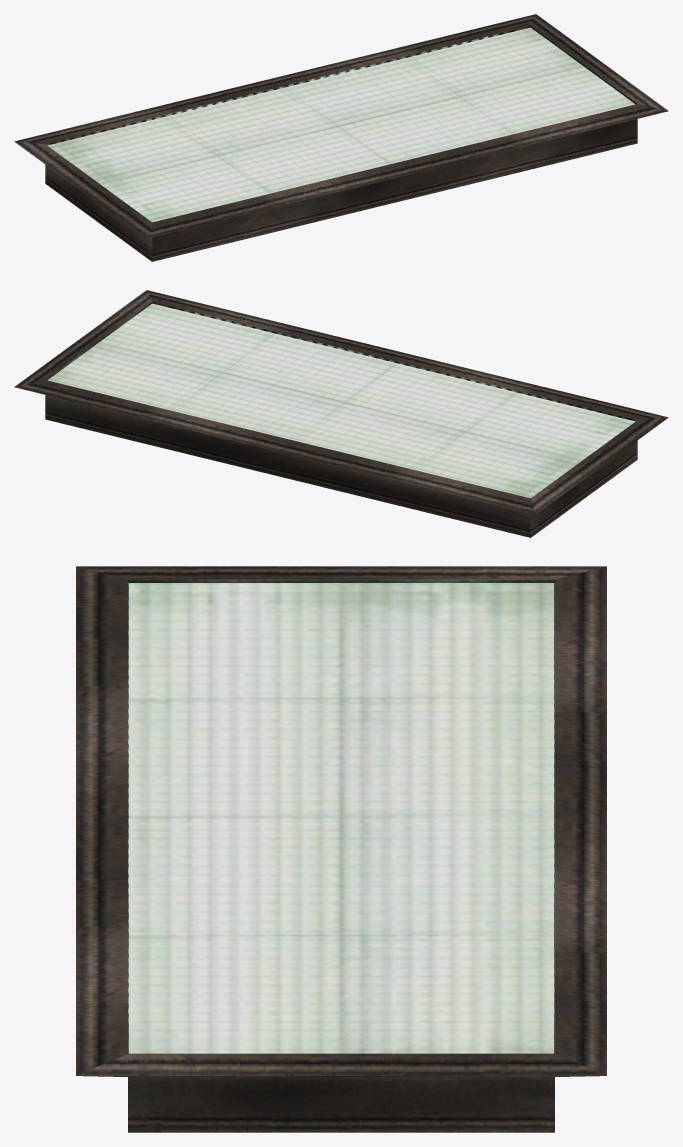
The model's file is 2bulb_flo.fbx.
3 renders of one model, top to bottom at view 1: azimuth 30°, elevation 25°; view 2: azimuth 150°, elevation 25°; view 3: azimuth 270°, elevation 25°, orthographic. The views are drawn at different scales.
Visible parts, largest first — view 1: mesh_1, mesh_0; view 2: mesh_1, mesh_0; view 3: mesh_1, mesh_0.
Boxes of the visible parts, box(x1,y1,x2,y2) form: mesh_1: box(47, 27, 635, 222); mesh_0: box(14, 14, 668, 261); mesh_1: box(47, 303, 635, 498); mesh_0: box(14, 290, 668, 537); mesh_1: box(128, 583, 554, 1053); mesh_0: box(76, 566, 606, 1132).
Size of the model in its own units: 139 by 10.07 by 61.27.
Materials: 2 (2 with a texture image).
